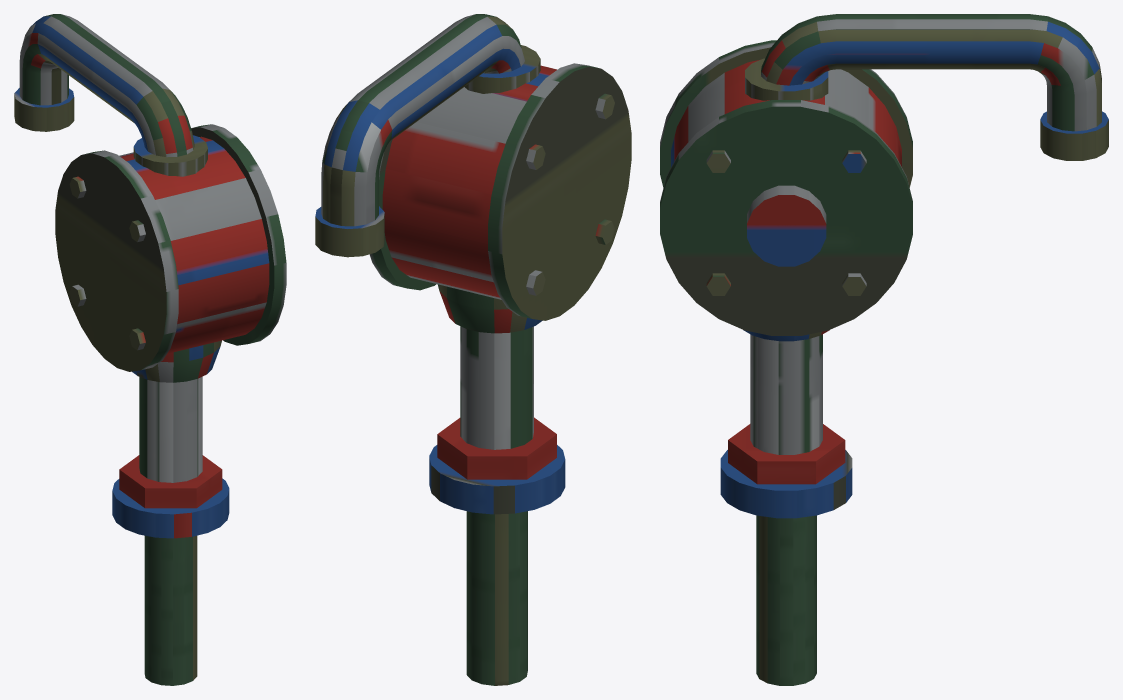
The model's file is body_drum.obj.
3 views of the same model, side by side, from view 1: azimuth 30°, elevation 25°; view 2: azimuth 150°, elevation 25°; view 3: azimuth 270°, elevation 25° (orthographic). The views are drawn at different scales.
Parts seen in each view (by area): view 1: hand_fuel_pump__body_drum__covers, hand_fuel_pump__body_drum__housing, hand_fuel_pump__body_drum__discharge, hand_fuel_pump__body_drum__suction, hand_fuel_pump__body_drum__column, hand_fuel_pump__body_drum__adapter, hand_fuel_pump__body_drum__nut, hand_fuel_pump__body_drum__foot, hand_fuel_pump__body_drum__barb, hand_fuel_pump__body_drum__outlet_boss, hand_fuel_pump__body_drum__cover_bolts; view 2: hand_fuel_pump__body_drum__covers, hand_fuel_pump__body_drum__housing, hand_fuel_pump__body_drum__discharge, hand_fuel_pump__body_drum__suction, hand_fuel_pump__body_drum__column, hand_fuel_pump__body_drum__adapter, hand_fuel_pump__body_drum__nut, hand_fuel_pump__body_drum__foot, hand_fuel_pump__body_drum__barb, hand_fuel_pump__body_drum__outlet_boss, hand_fuel_pump__body_drum__cover_bolts; view 3: hand_fuel_pump__body_drum__covers, hand_fuel_pump__body_drum__discharge, hand_fuel_pump__body_drum__suction, hand_fuel_pump__body_drum__column, hand_fuel_pump__body_drum__housing, hand_fuel_pump__body_drum__adapter, hand_fuel_pump__body_drum__nut, hand_fuel_pump__body_drum__barb, hand_fuel_pump__body_drum__outlet_boss, hand_fuel_pump__body_drum__cover_bolts.
Part boxes in pixels (box(x1,y1,x2,y2)): hand_fuel_pump__body_drum__covers: box(55, 124, 286, 371); hand_fuel_pump__body_drum__housing: box(119, 136, 269, 353); hand_fuel_pump__body_drum__discharge: box(19, 14, 194, 157); hand_fuel_pump__body_drum__suction: box(144, 535, 197, 685); hand_fuel_pump__body_drum__column: box(139, 376, 202, 482); hand_fuel_pump__body_drum__adapter: box(112, 478, 229, 538); hand_fuel_pump__body_drum__nut: box(119, 455, 222, 508); hand_fuel_pump__body_drum__foot: box(132, 340, 221, 382); hand_fuel_pump__body_drum__barb: box(14, 88, 74, 131); hand_fuel_pump__body_drum__outlet_boss: box(133, 135, 207, 176); hand_fuel_pump__body_drum__cover_bolts: box(69, 176, 145, 350); hand_fuel_pump__body_drum__covers: box(369, 63, 631, 320); hand_fuel_pump__body_drum__housing: box(382, 65, 556, 299); hand_fuel_pump__body_drum__discharge: box(321, 14, 524, 226); hand_fuel_pump__body_drum__suction: box(466, 511, 527, 685); hand_fuel_pump__body_drum__column: box(460, 326, 533, 449); hand_fuel_pump__body_drum__adapter: box(429, 445, 565, 514); hand_fuel_pump__body_drum__nut: box(437, 417, 556, 479); hand_fuel_pump__body_drum__foot: box(437, 284, 542, 333); hand_fuel_pump__body_drum__barb: box(315, 206, 384, 257); hand_fuel_pump__body_drum__outlet_boss: box(464, 45, 540, 93); hand_fuel_pump__body_drum__cover_bolts: box(526, 93, 614, 295); hand_fuel_pump__body_drum__covers: box(660, 40, 912, 335); hand_fuel_pump__body_drum__discharge: box(761, 14, 1101, 131); hand_fuel_pump__body_drum__suction: box(756, 515, 816, 685); hand_fuel_pump__body_drum__column: box(750, 334, 822, 454); hand_fuel_pump__body_drum__housing: box(671, 59, 901, 167); hand_fuel_pump__body_drum__adapter: box(720, 450, 852, 518); hand_fuel_pump__body_drum__nut: box(728, 424, 845, 484); hand_fuel_pump__body_drum__barb: box(1040, 111, 1108, 160); hand_fuel_pump__body_drum__outlet_boss: box(745, 58, 828, 100); hand_fuel_pump__body_drum__cover_bolts: box(706, 150, 866, 295).
Bounding box in the file's own units: 0.1453 × 0.5604 × 0.347.
